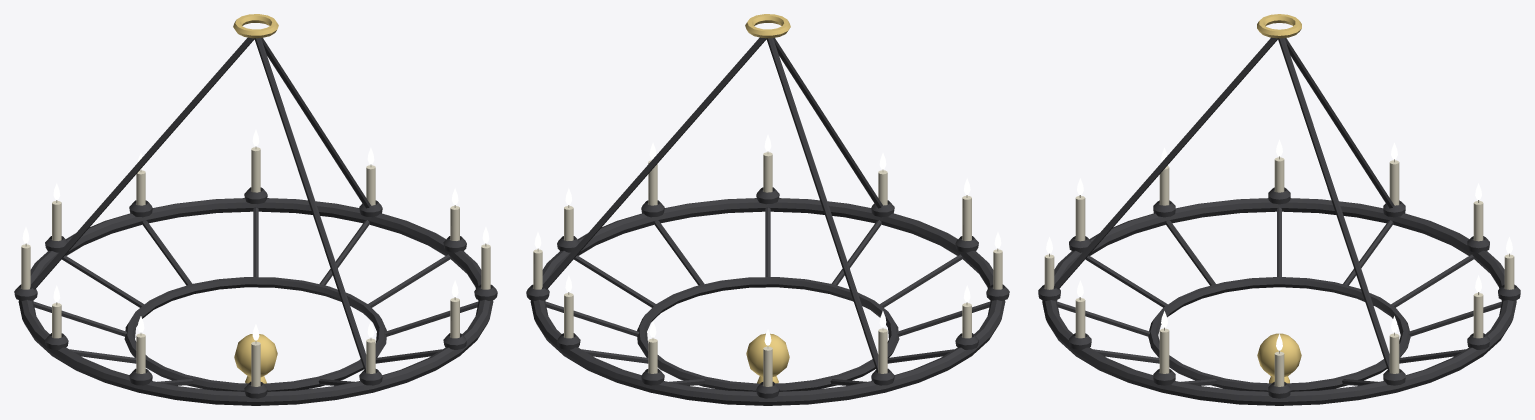
The model's file is chi_lampadario.fbx.
3 views of the same model, side by side, from view 1: azimuth 30°, elevation 25°; view 2: azimuth 150°, elevation 25°; view 3: azimuth 270°, elevation 25° (orthographic).
Visible parts, largest first — view 1: chi_lampadario_ferro, chi_lampadario_cera, chi_lampadario_oro, chi_lampadario_fiamma; view 2: chi_lampadario_ferro, chi_lampadario_cera, chi_lampadario_oro, chi_lampadario_fiamma; view 3: chi_lampadario_ferro, chi_lampadario_cera, chi_lampadario_oro, chi_lampadario_fiamma.
Part boxes in pixels (bbox=[...]): chi_lampadario_ferro: bbox=[14, 37, 497, 405]; chi_lampadario_cera: bbox=[21, 146, 490, 386]; chi_lampadario_oro: bbox=[233, 14, 278, 383]; chi_lampadario_fiamma: bbox=[22, 129, 489, 340]; chi_lampadario_ferro: bbox=[526, 37, 1009, 405]; chi_lampadario_cera: bbox=[533, 151, 1002, 386]; chi_lampadario_oro: bbox=[745, 14, 790, 383]; chi_lampadario_fiamma: bbox=[534, 134, 1001, 345]; chi_lampadario_ferro: bbox=[1038, 37, 1520, 405]; chi_lampadario_cera: bbox=[1044, 156, 1514, 386]; chi_lampadario_oro: bbox=[1257, 14, 1301, 383]; chi_lampadario_fiamma: bbox=[1046, 139, 1512, 350].
Size of the model in its own units: 1.3 by 1.11 by 1.3.
